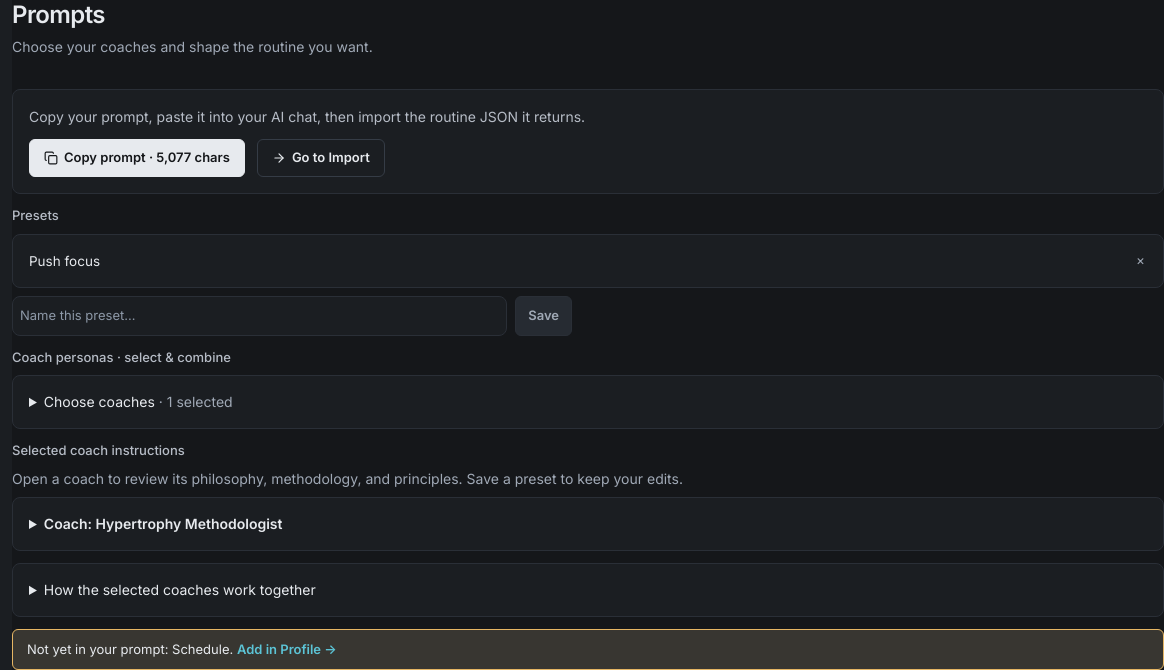
PromptBuilderClient presets › persona id no longer in DEFAULT_PERSONAS is skipped on load
Step 1. Click the text "Choose coaches" → point(99, 402), box [44, 393, 155, 410]
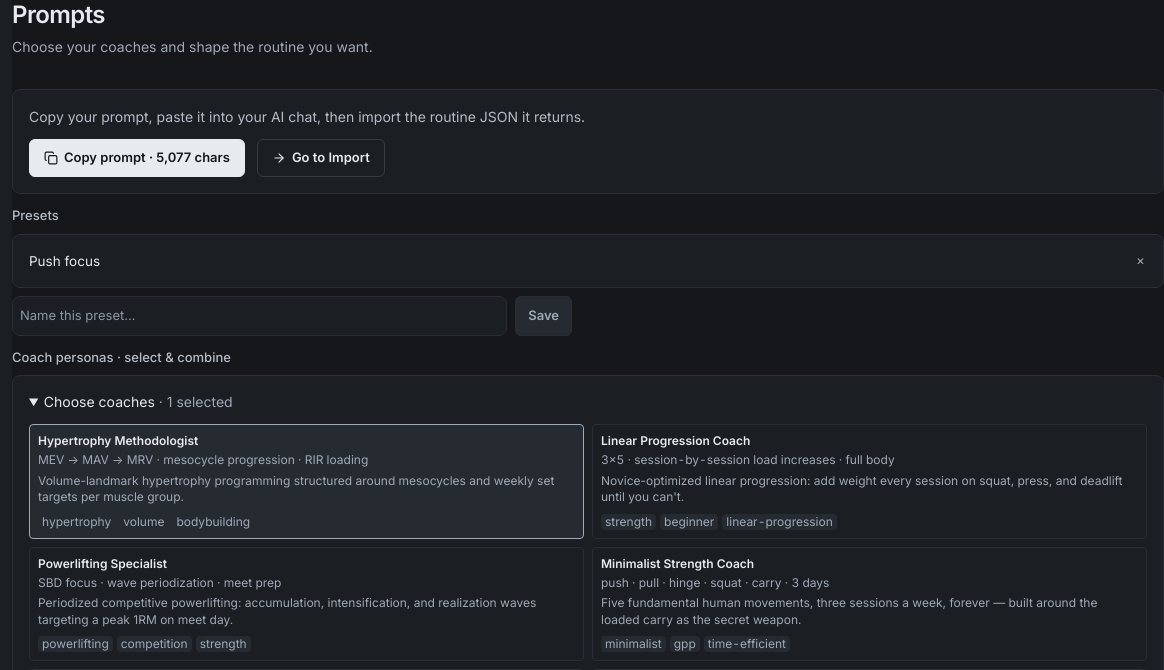
Step 2. Click the button "Push focus" → point(65, 260), box [29, 250, 1134, 271]
(page scrolled)
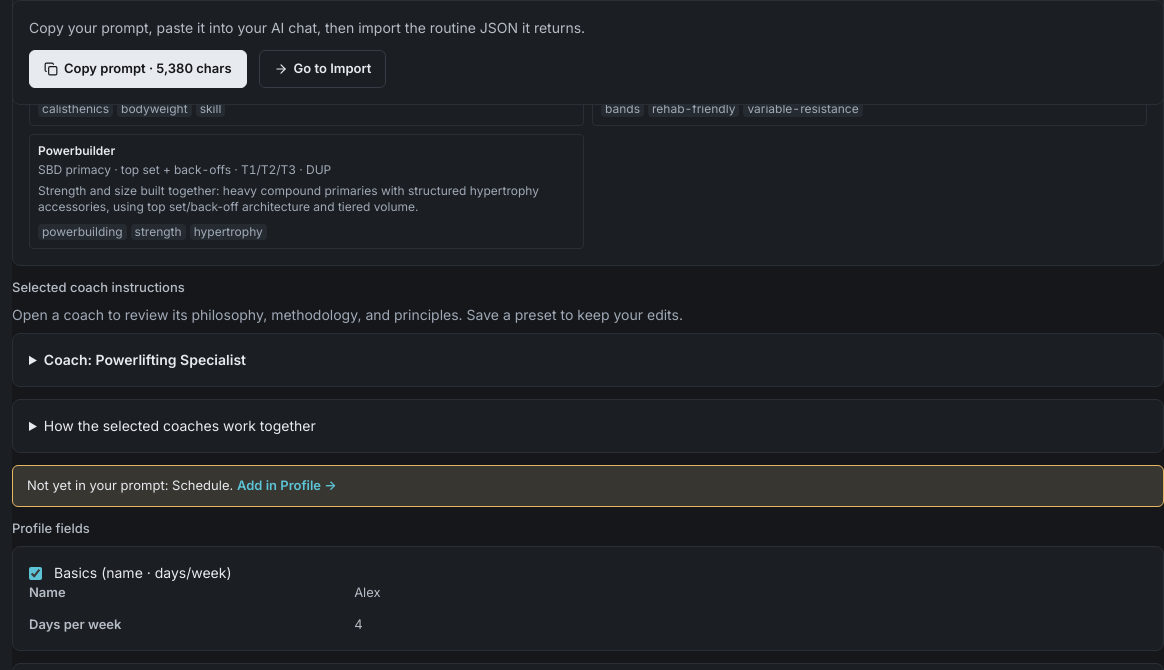
expect the heading "Coach: Hypertrophy Methodologist" is not shown: met
expect the heading "Coach: Powerlifting Specialist" is shown: met, box [44, 351, 246, 368]
